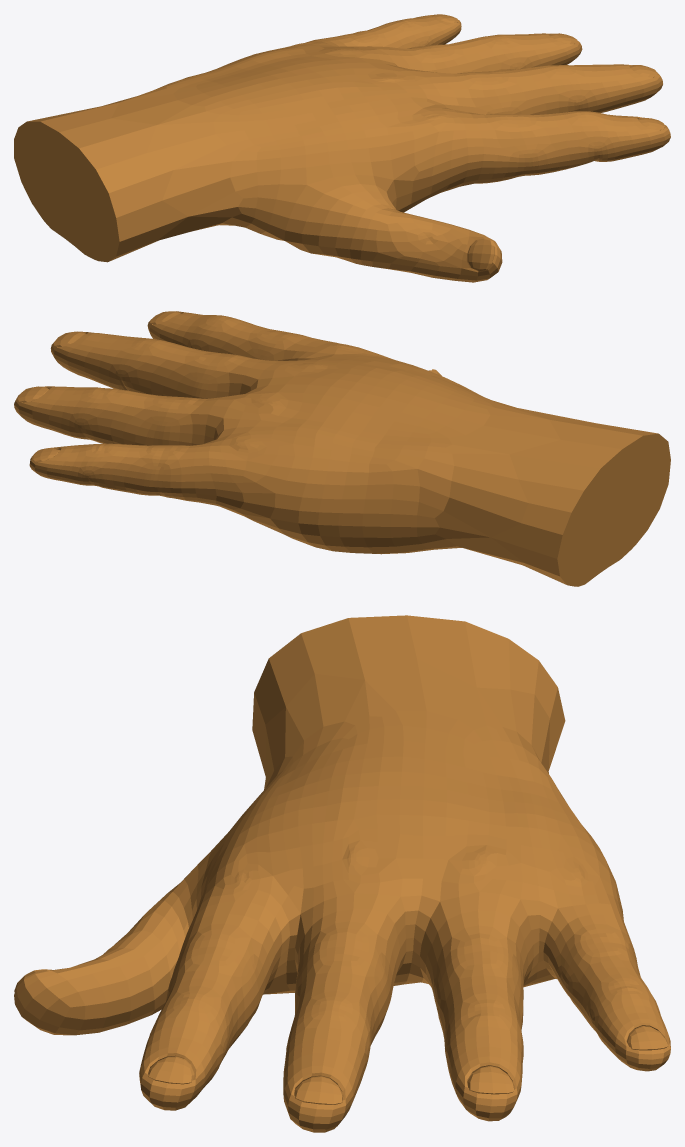
The model's file is hand.obj.
3 renders of one model, top to bottom at view 1: azimuth 30°, elevation 25°; view 2: azimuth 150°, elevation 25°; view 3: azimuth 270°, elevation 25°, orthographic. The views are drawn at different scales.
Parts seen in each view (by area): view 1: hand; view 2: hand; view 3: hand.
Part boxes in pixels (x1,y1,x2,y2): hand: (14, 14, 670, 282); hand: (14, 311, 670, 586); hand: (14, 615, 670, 1132).
Bounding box in the file's own units: 0.3306 × 0.0784 × 0.2227.
